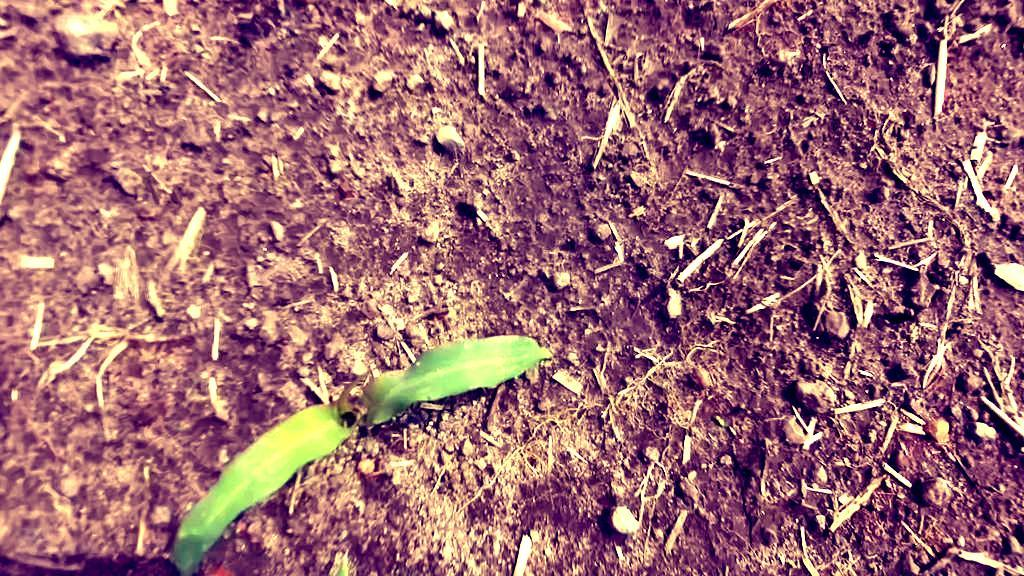BroWeed: (178, 204, 212, 256), (433, 122, 471, 164), (994, 262, 1024, 292), (0, 110, 17, 125)
Maize: (137, 281, 557, 576)
